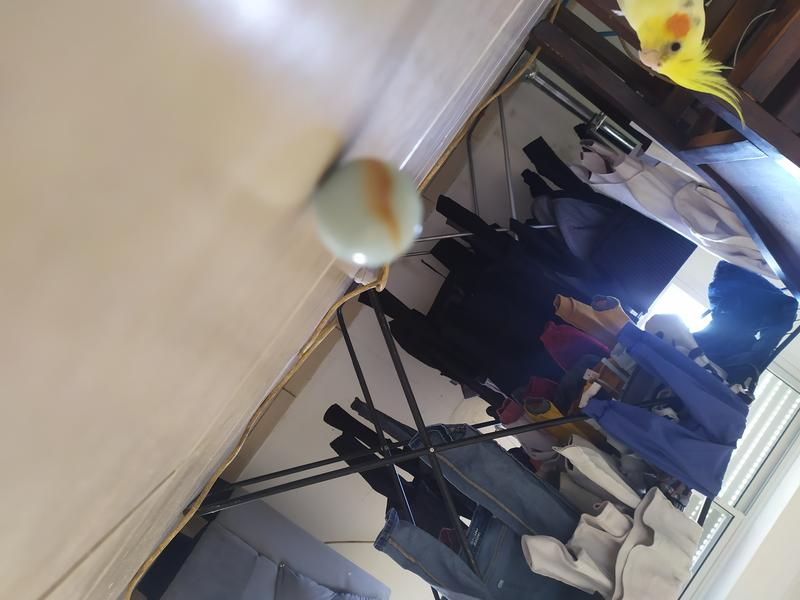Warning: (306, 154, 432, 274)
